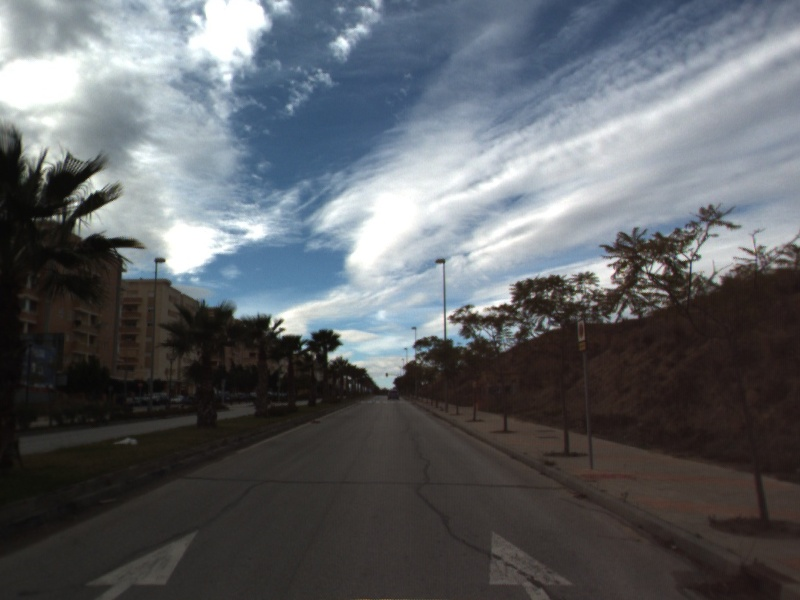STRAIGHT: (82, 526, 202, 600), (487, 528, 578, 600)
